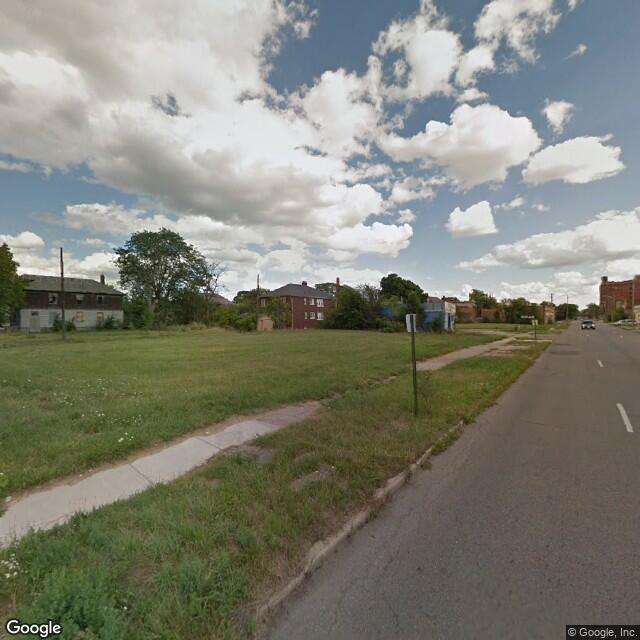litter: (1, 552, 23, 581), (113, 415, 143, 424), (121, 432, 133, 443), (80, 469, 93, 478), (201, 429, 213, 438), (3, 495, 15, 504), (118, 602, 128, 611), (328, 464, 337, 472), (91, 412, 103, 418), (313, 468, 322, 474), (78, 414, 86, 419), (1, 471, 3, 476)
